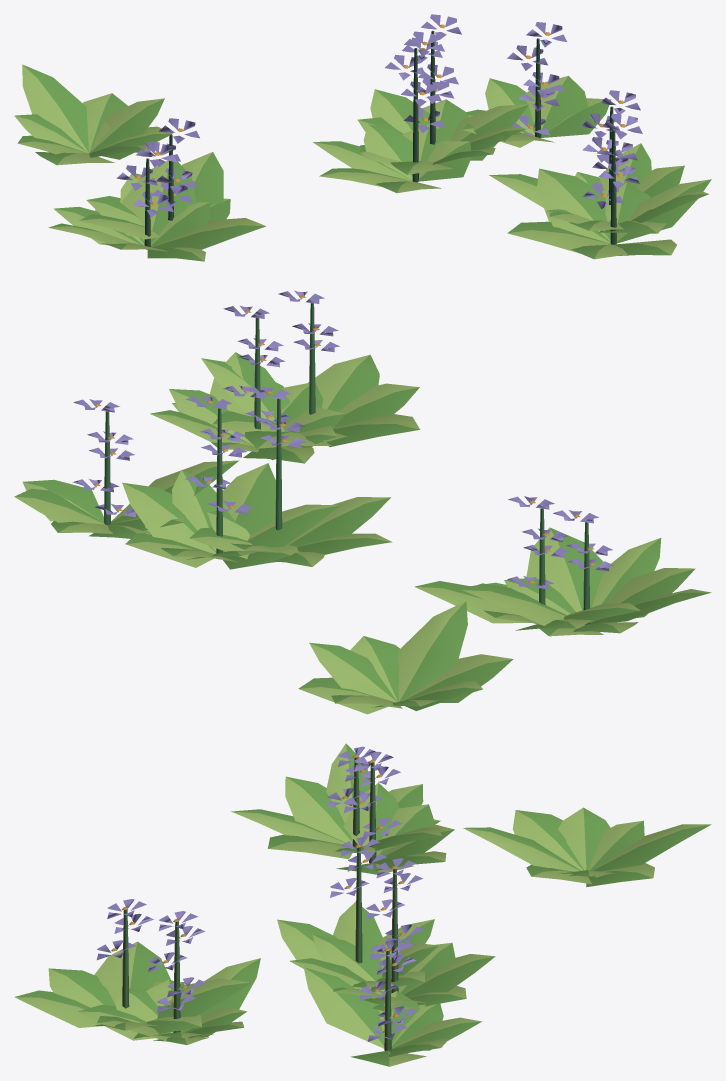
Rendered from Wetland_09_Camalote_Violet.glb.
3 views of the same model, one above another, from view 1: azimuth 30°, elevation 25°; view 2: azimuth 150°, elevation 25°; view 3: azimuth 270°, elevation 25° (orthographic). The views are drawn at different scales.
Visible parts, largest first — view 1: Wetland_09_Camalote_Violet; view 2: Wetland_09_Camalote_Violet; view 3: Wetland_09_Camalote_Violet.
Boxes of the visible parts, <box> form: Wetland_09_Camalote_Violet: <box>14,14,711,261</box>; Wetland_09_Camalote_Violet: <box>14,290,711,714</box>; Wetland_09_Camalote_Violet: <box>14,743,711,1066</box>.
Size of the model in its own units: 2.27 by 0.5252 by 2.29.
